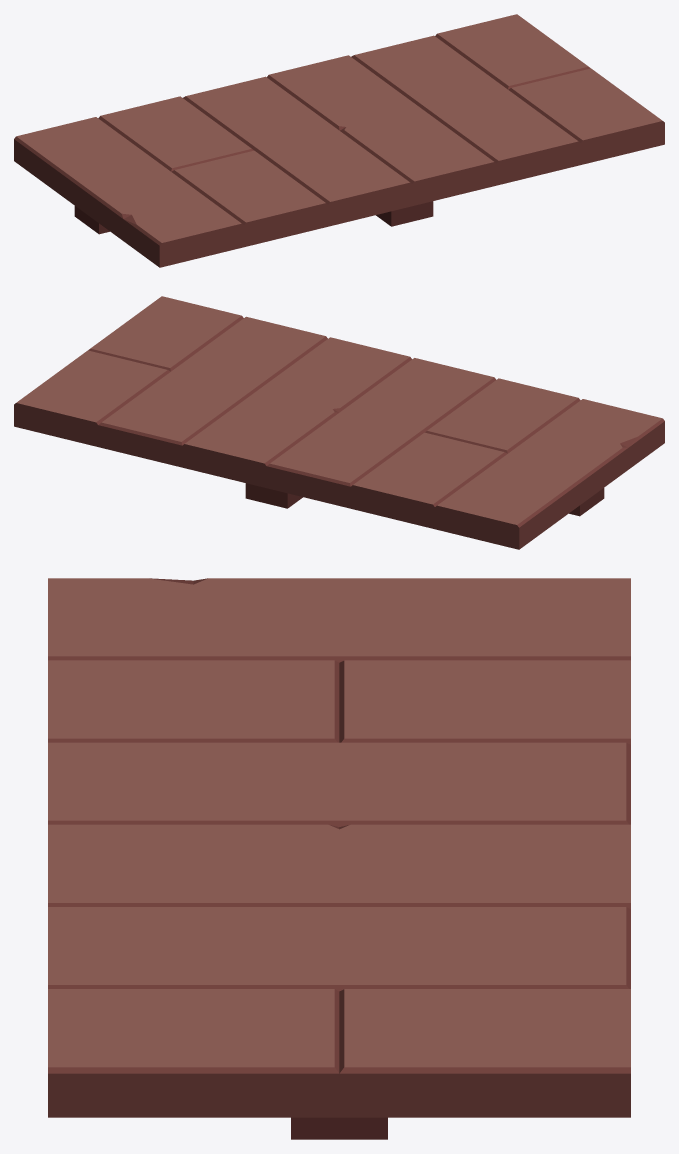
Rendered from Floor_4.fbx.
3 renders of one model, top to bottom at view 1: azimuth 30°, elevation 25°; view 2: azimuth 150°, elevation 25°; view 3: azimuth 270°, elevation 25°, orthographic. The views are drawn at different scales.
Parts seen in each view (by area): view 1: Floor_4; view 2: Floor_4; view 3: Floor_4.
Part boxes in pixels (x1,y1,x2,y2): Floor_4: (14, 14, 664, 267); Floor_4: (14, 296, 664, 549); Floor_4: (48, 578, 630, 1139).
Bounding box in the file's own units: 2.4 × 1.2 × 0.18.
